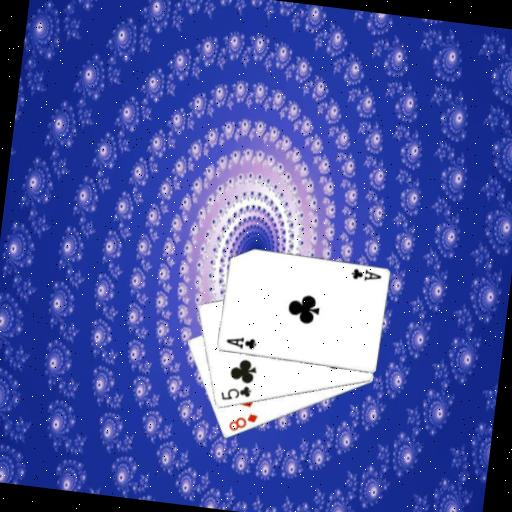5C: (217, 380, 253, 405)
8D: (225, 408, 260, 435)
AC: (347, 265, 384, 285), (223, 332, 259, 352)
